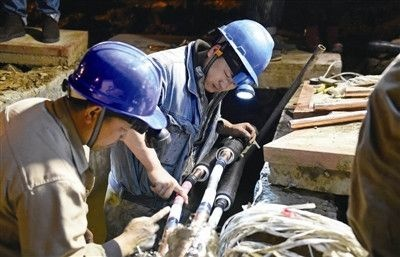blue: (68, 39, 156, 148), (201, 18, 273, 101)
